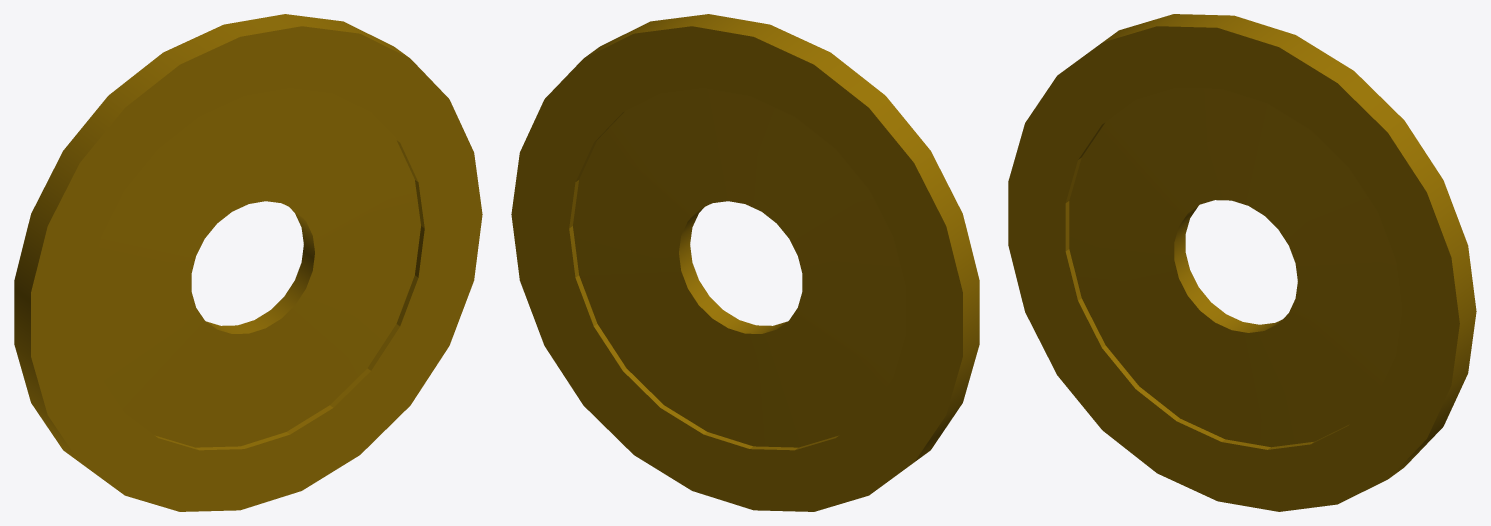
File: gold.FBX
The picture shows the model from 3 angles, left to right: view 1: azimuth 30°, elevation 25°; view 2: azimuth 150°, elevation 25°; view 3: azimuth 330°, elevation 25°; orthographic projection.
Visible parts, largest first — view 1: Cylinder001; view 2: Cylinder001; view 3: Cylinder001.
Boxes of the visible parts, bbox=[...] form: Cylinder001: bbox=[14, 14, 482, 511]; Cylinder001: bbox=[511, 14, 979, 511]; Cylinder001: bbox=[1008, 14, 1476, 511].
Bounding box in the file's own units: 0.302 × 0.3027 × 0.0193.
